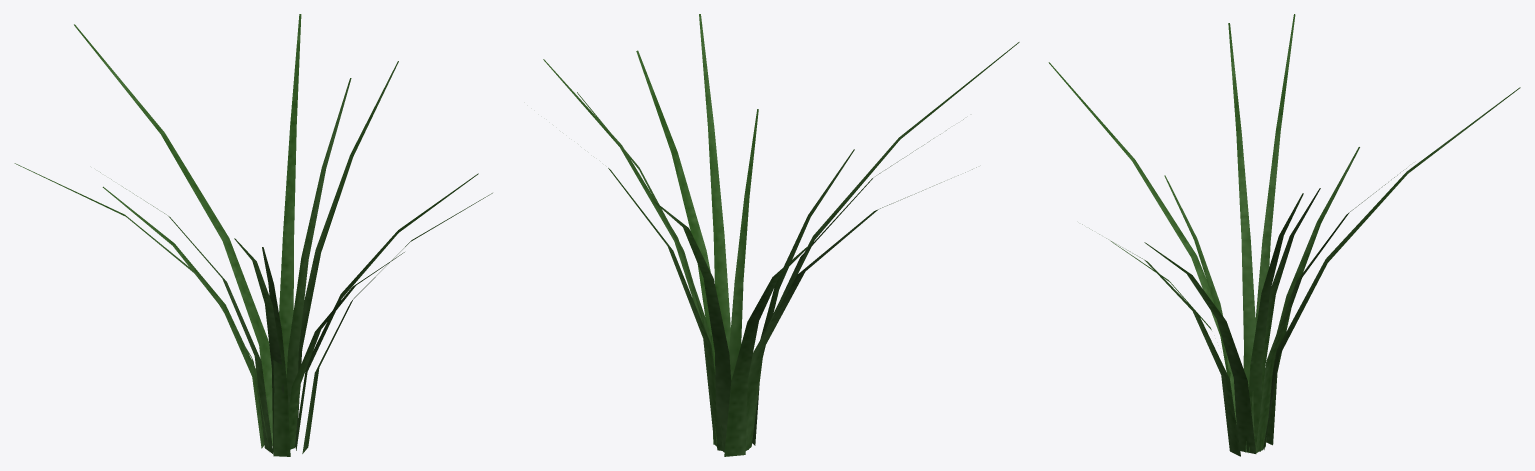
Rendered from grass_tuft_5.glb.
3 views of the same model, side by side, from view 1: azimuth 30°, elevation 25°; view 2: azimuth 150°, elevation 25°; view 3: azimuth 270°, elevation 25° (orthographic). The views are drawn at different scales.
Parts seen in each view (by area): view 1: grass_tuft_5; view 2: grass_tuft_5; view 3: grass_tuft_5.
Boxes of the visible parts, <box> form: grass_tuft_5: <box>14,14,492,456</box>; grass_tuft_5: <box>543,14,1019,456</box>; grass_tuft_5: <box>1048,14,1520,456</box>.
Size of the model in its own units: 1.43 by 1.22 by 1.56.
1 material, 1 textured.
